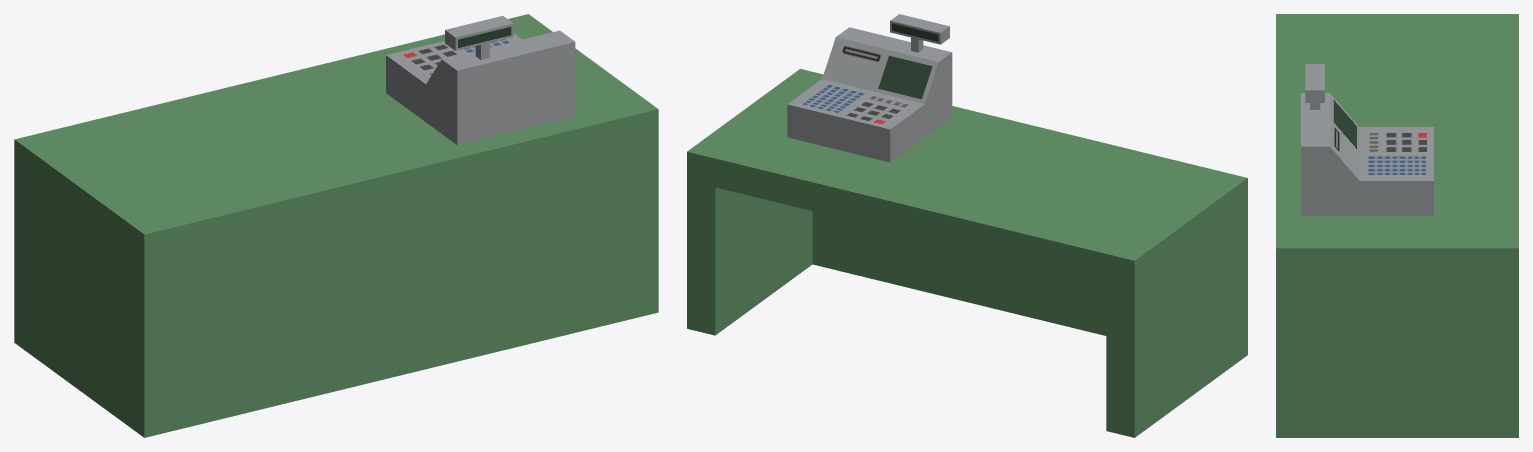
The model's file is cashier.fbx.
3 views of the same model, side by side, from view 1: azimuth 30°, elevation 25°; view 2: azimuth 150°, elevation 25°; view 3: azimuth 270°, elevation 25° (orthographic). The views are drawn at different scales.
Visible parts, largest first — view 1: table, cashier; view 2: table, cashier; view 3: table, cashier.
Part boxes in pixels (left/top/right/bottom): table: left=14, top=14, right=658, bottom=437; cashier: left=386, top=16, right=575, bottom=145; table: left=687, top=69, right=1247, bottom=437; cashier: left=787, top=14, right=952, bottom=162; table: left=1276, top=14, right=1518, bottom=437; cashier: left=1301, top=64, right=1433, bottom=216.
Size of the model in its own units: 456 by 262 by 200.
2 materials, 2 textured.
